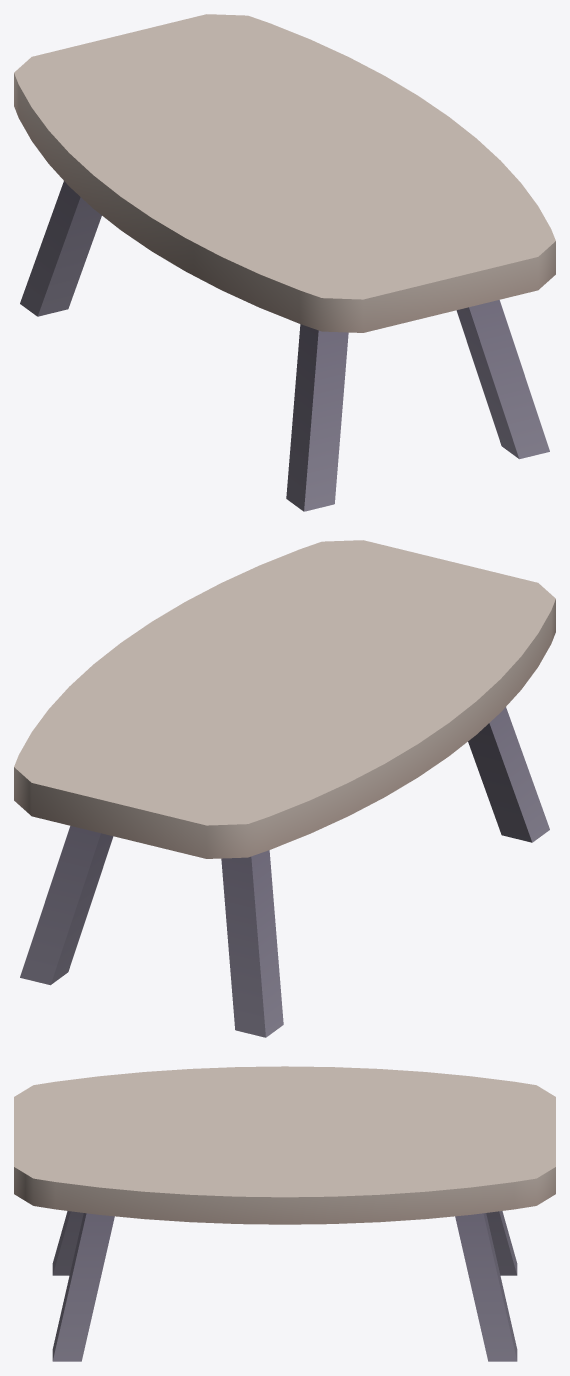
File: table-rectangle-metal-legs-rounded.glb
The picture shows the model from 3 angles, top to bottom: view 1: azimuth 30°, elevation 25°; view 2: azimuth 150°, elevation 25°; view 3: azimuth 270°, elevation 25°; orthographic projection. The views are drawn at different scales.
Parts seen in each view (by area): view 1: table-rectangle-metal-legs-rounded; view 2: table-rectangle-metal-legs-rounded; view 3: table-rectangle-metal-legs-rounded.
Part boxes in pixels (bbox=[...]): table-rectangle-metal-legs-rounded: bbox=[14, 14, 555, 511]; table-rectangle-metal-legs-rounded: bbox=[14, 540, 555, 1037]; table-rectangle-metal-legs-rounded: bbox=[14, 1066, 555, 1361].
Size of the model in its own units: 0.8 by 0.5146 by 1.4.
